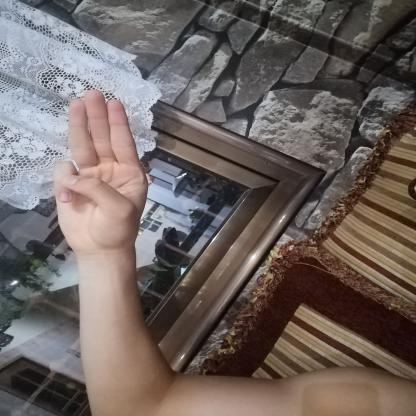THA: (39, 81, 160, 260)
